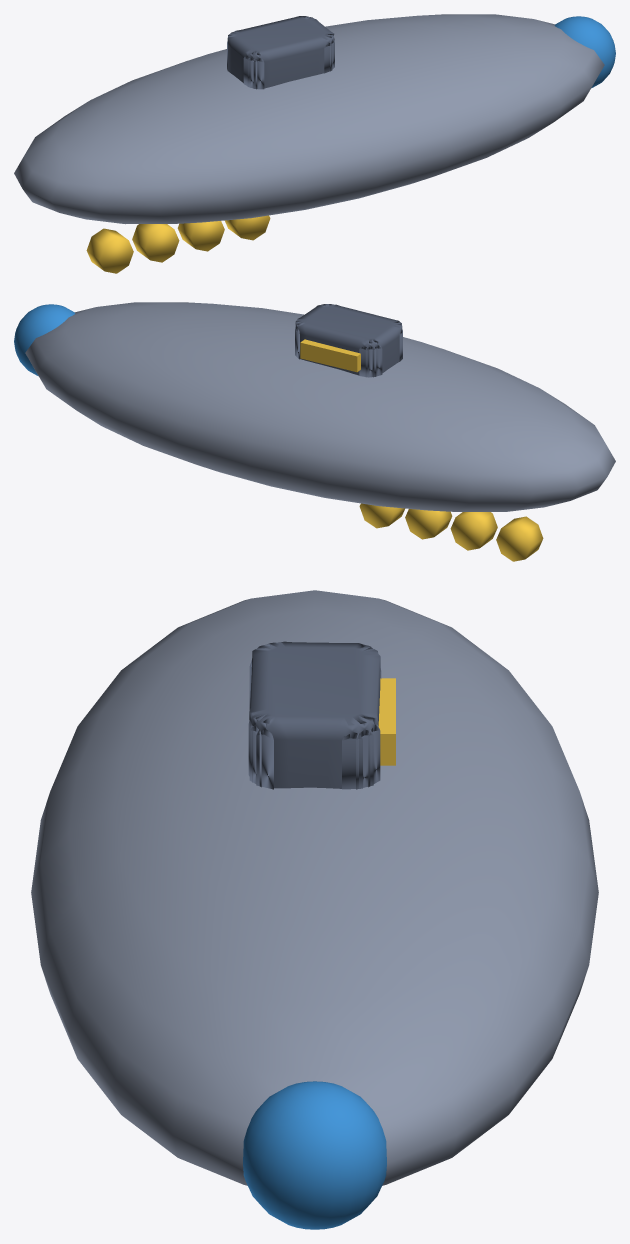
The model's file is battlecruiser.glb.
The picture shows the model from 3 angles, top to bottom: view 1: azimuth 30°, elevation 25°; view 2: azimuth 150°, elevation 25°; view 3: azimuth 270°, elevation 25°; orthographic projection. The views are drawn at different scales.
Parts seen in each view (by area): view 1: bc_hull.001, bc_bridge.001, bc_yamato.001, bc_eng0.001, bc_eng1.001, bc_eng2.001, bc_eng3.001; view 2: bc_hull.001, bc_bridge.001, bc_yamato.001, bc_eng0.001, bc_eng1.001, bc_bridgewin.001, bc_eng2.001, bc_eng3.001; view 3: bc_hull.001, bc_bridge.001, bc_yamato.001, bc_bridgewin.001.
Part boxes in pixels (x1,y1,x2,y2): bc_hull.001: (14, 14, 604, 224); bc_bridge.001: (227, 16, 334, 89); bc_yamato.001: (554, 16, 615, 88); bc_eng0.001: (86, 228, 133, 273); bc_eng1.001: (132, 224, 179, 262); bc_eng2.001: (177, 221, 224, 251); bc_eng3.001: (225, 215, 270, 240); bc_hull.001: (25, 302, 615, 511); bc_bridge.001: (295, 304, 402, 377); bc_yamato.001: (14, 304, 75, 376); bc_eng0.001: (496, 516, 543, 561); bc_eng1.001: (450, 512, 497, 550); bc_bridgewin.001: (300, 339, 360, 372); bc_eng2.001: (405, 509, 452, 539); bc_eng3.001: (359, 503, 404, 528); bc_hull.001: (31, 590, 598, 1185); bc_bridge.001: (248, 641, 381, 789); bc_yamato.001: (243, 1081, 386, 1229); bc_bridgewin.001: (378, 678, 395, 765).
Size of the model in its own units: 3.1 by 0.97 by 1.3.
